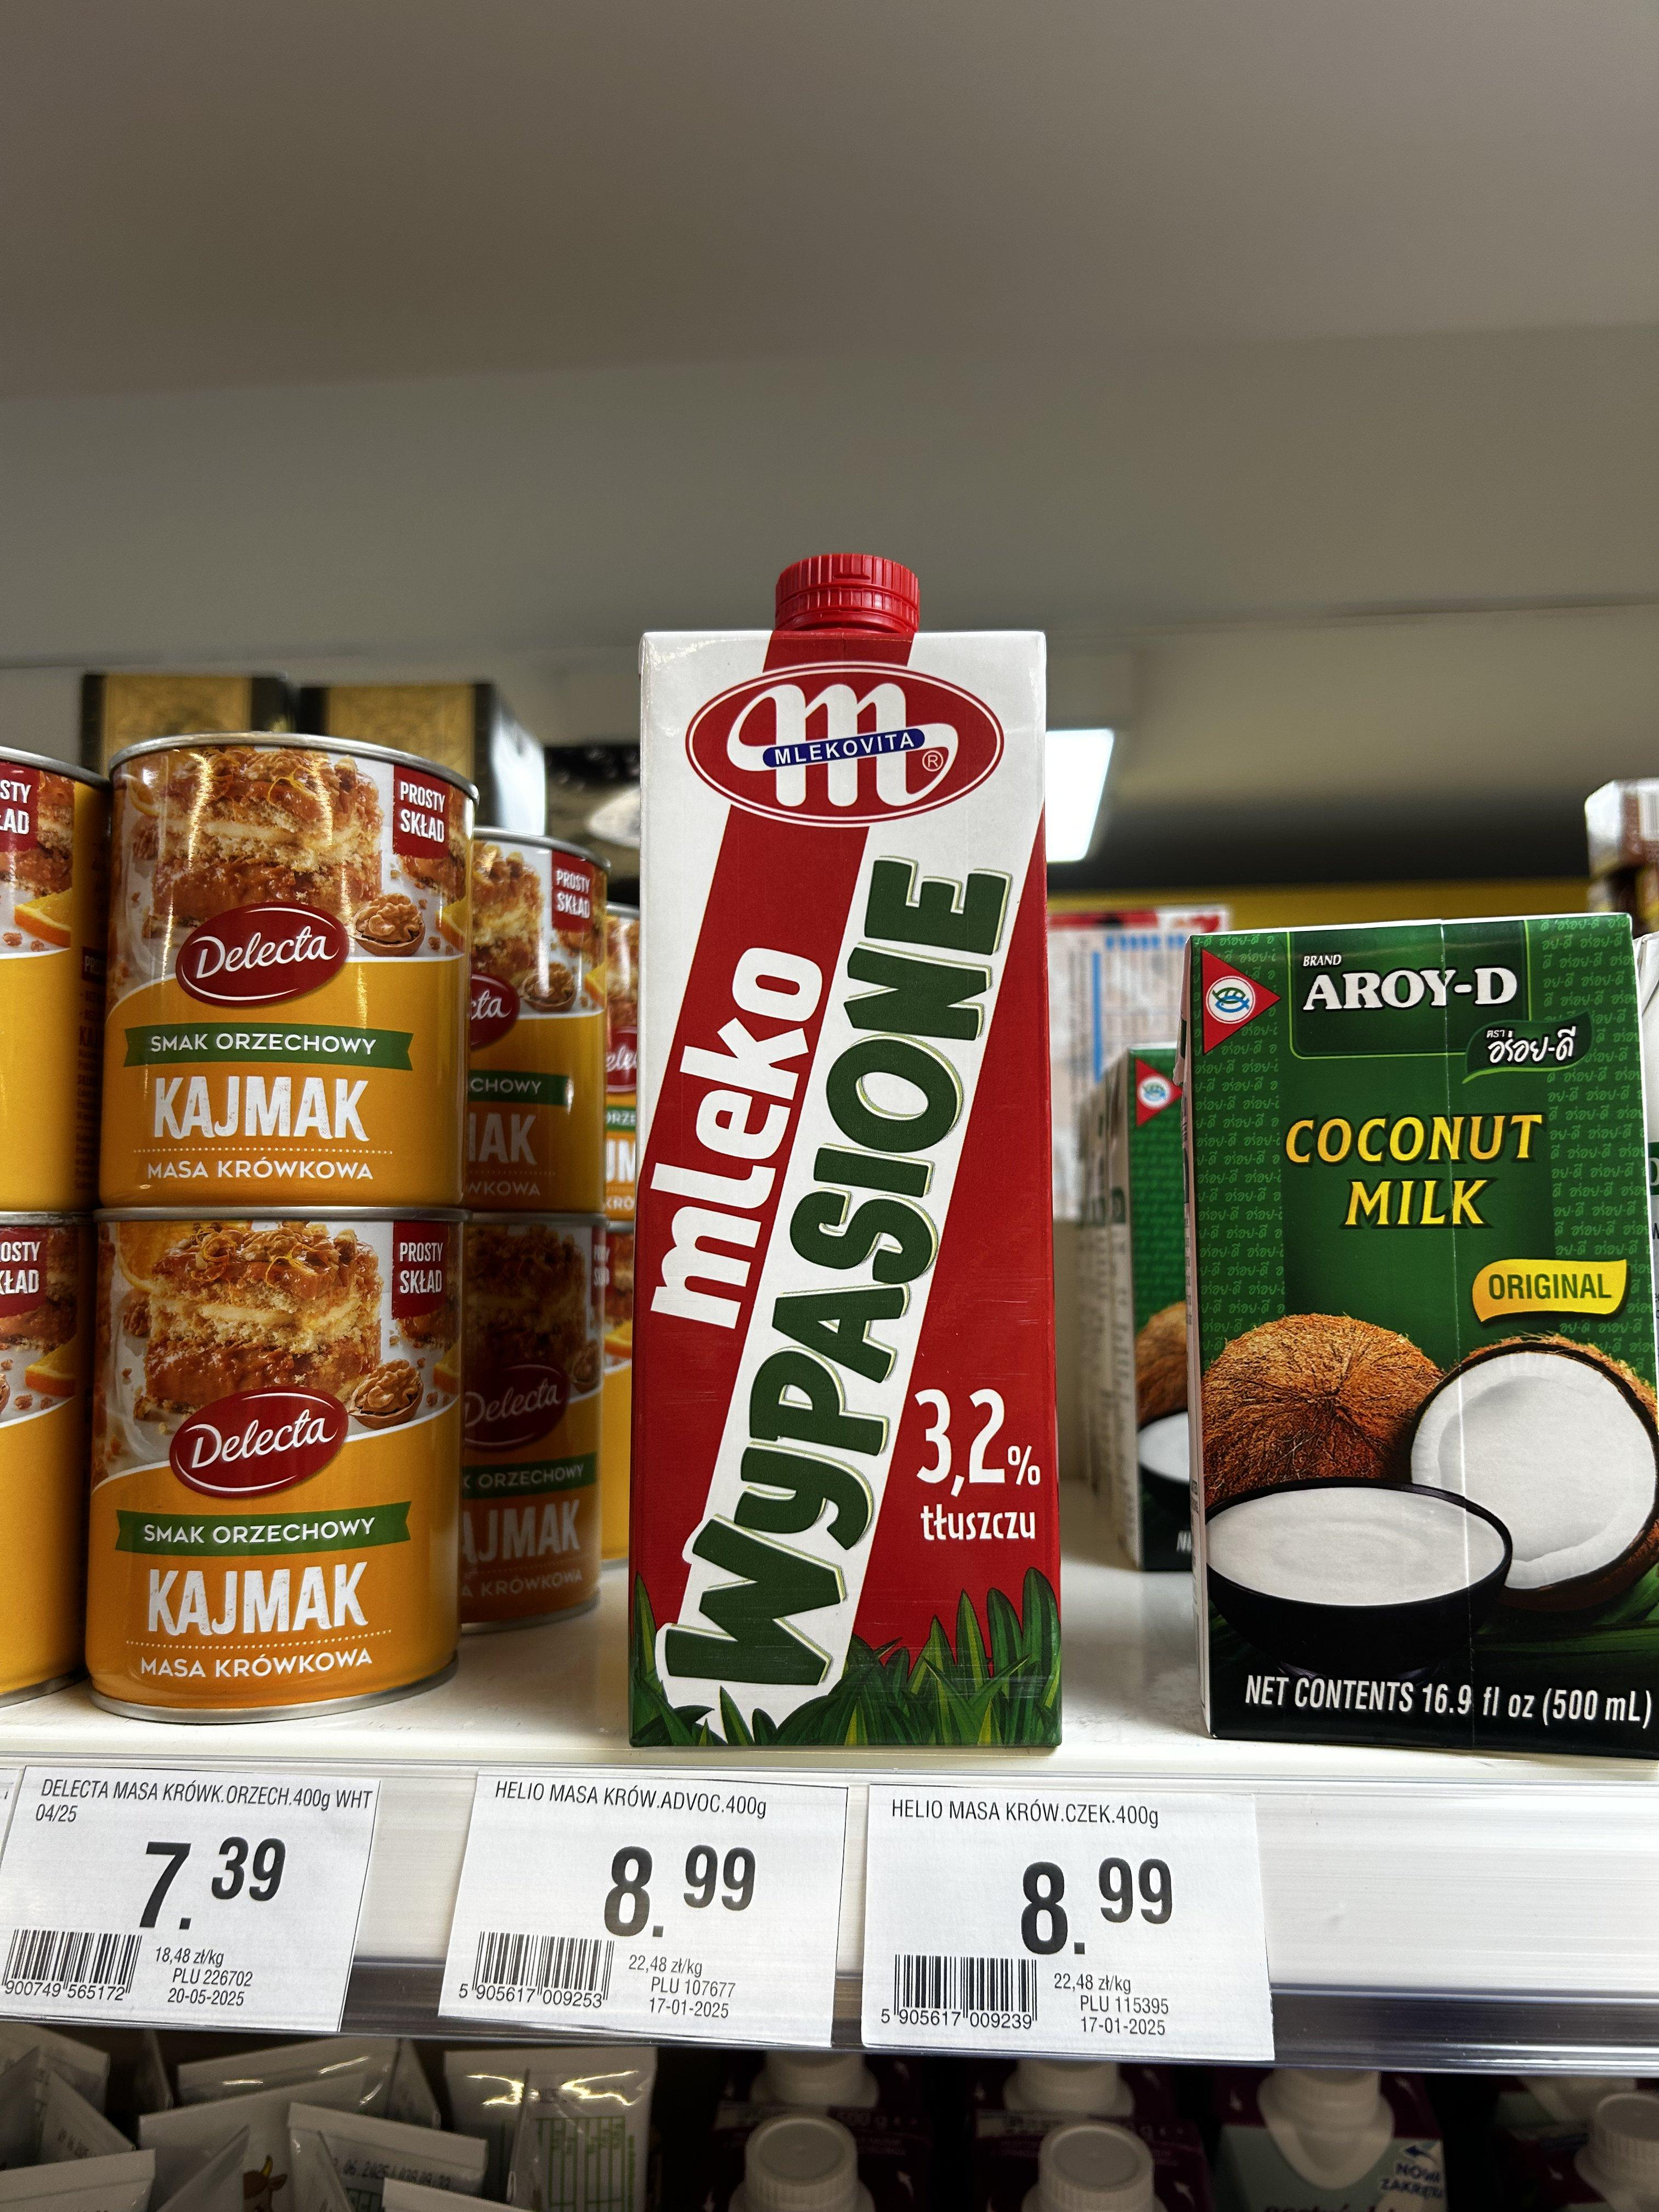Milk: (605, 529, 1091, 1764)
